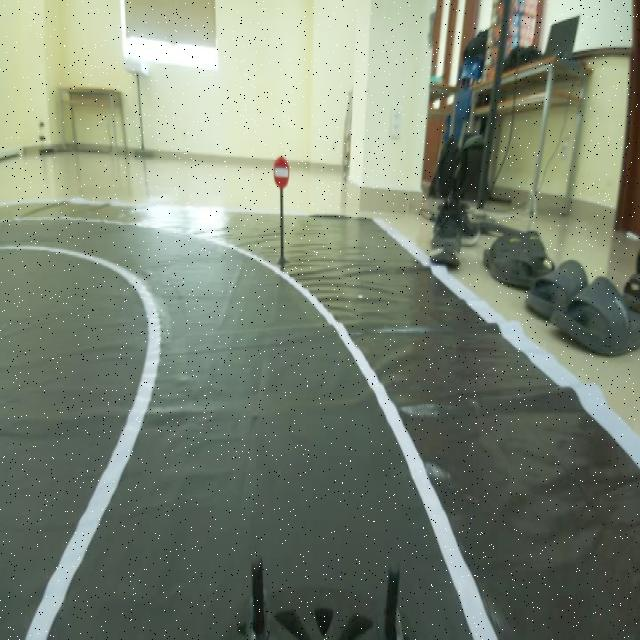no_entry: (261, 146, 307, 206)
